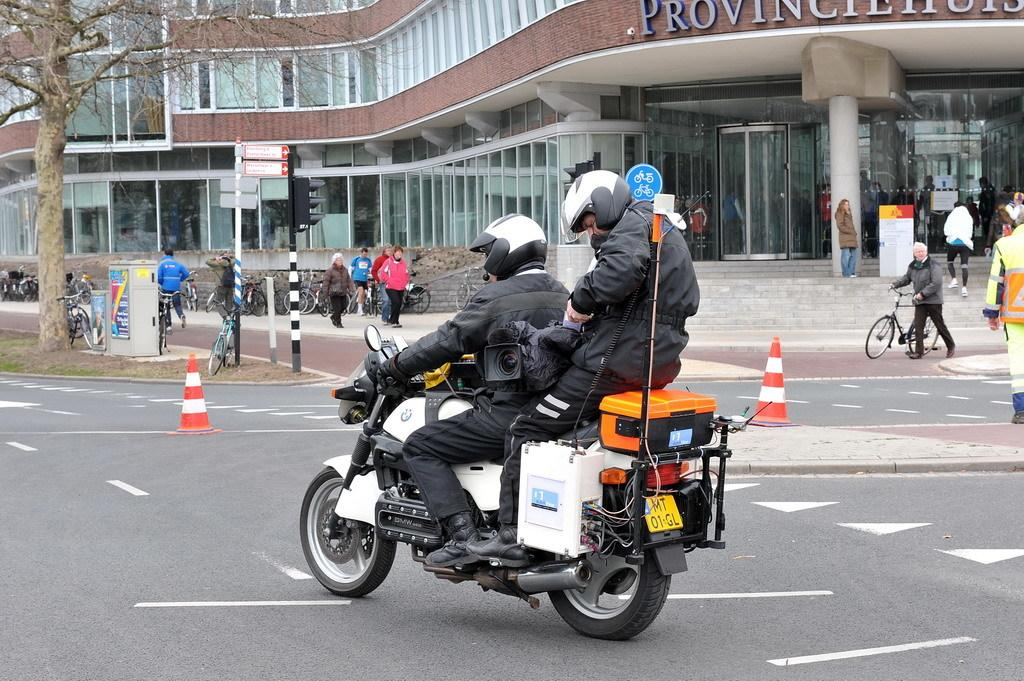helmet: (560, 170, 632, 243), (469, 213, 548, 279)
nohelmet: (913, 242, 928, 261), (392, 245, 404, 260), (332, 252, 344, 267), (382, 243, 393, 257), (839, 199, 850, 212), (164, 248, 174, 260), (360, 248, 369, 259)
